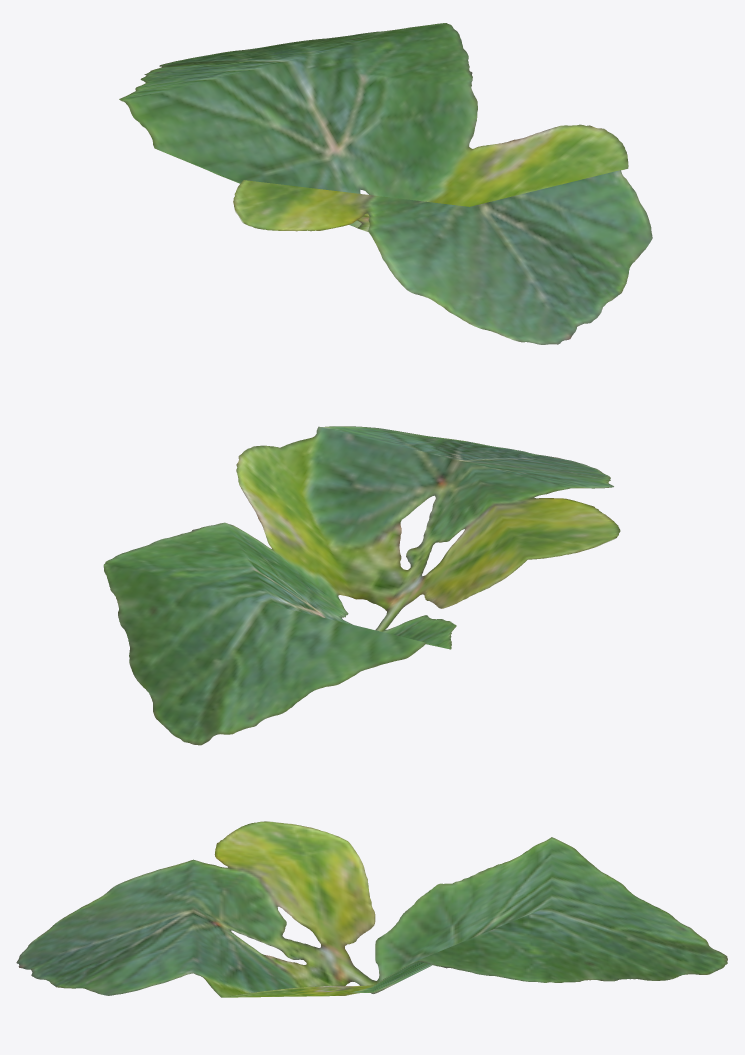
Rendered from SproutPumpkin.FBX.
3 renders of one model, top to bottom at view 1: azimuth 30°, elevation 25°; view 2: azimuth 150°, elevation 25°; view 3: azimuth 270°, elevation 25°, orthographic. The views are drawn at different scales.
Parts seen in each view (by area): view 1: Sprout Pumpkin; view 2: Sprout Pumpkin; view 3: Sprout Pumpkin.
Boxes of the visible parts, bbox=[...] form: Sprout Pumpkin: bbox=[119, 23, 652, 344]; Sprout Pumpkin: bbox=[103, 426, 620, 745]; Sprout Pumpkin: bbox=[16, 821, 727, 997].
Bounding box in the file's own units: 23.4 × 5.3 × 38.17.
